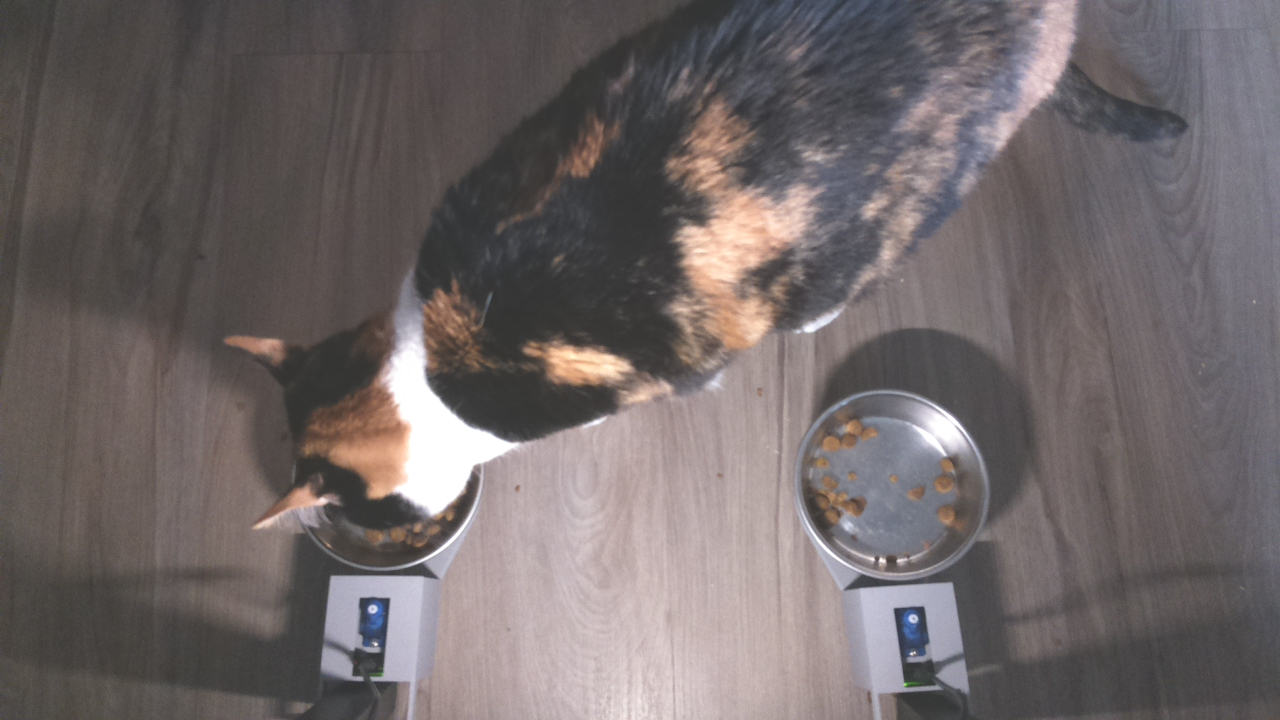bella_eating: (208, 261, 495, 582)
open_bowl: (791, 386, 991, 580)
